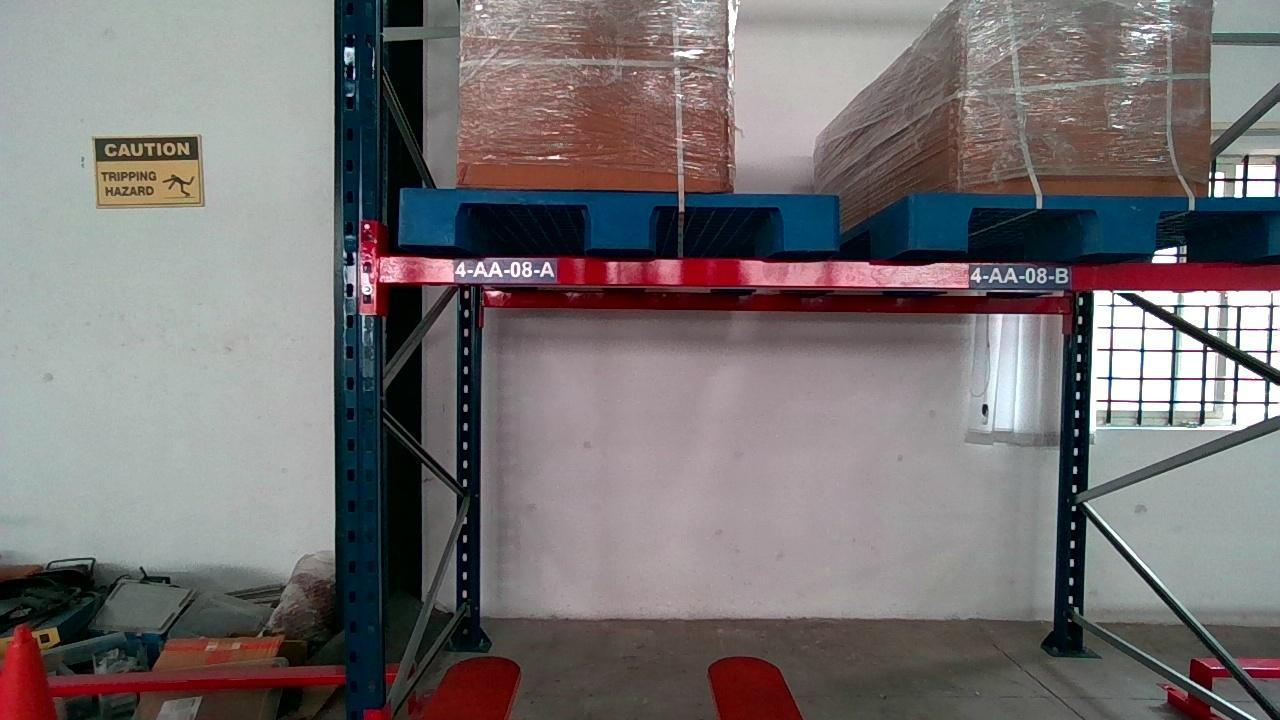h_rack: (378, 255, 1277, 285)
small_pallet: (400, 192, 844, 248), (908, 192, 1279, 256)
